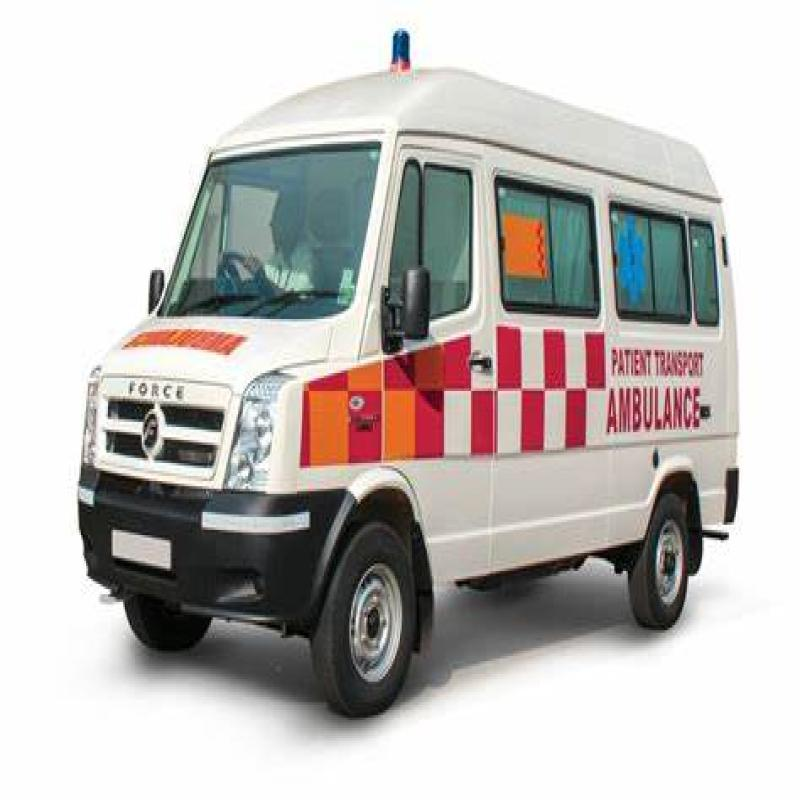AmbulanceSiren: (378, 12, 419, 118)
